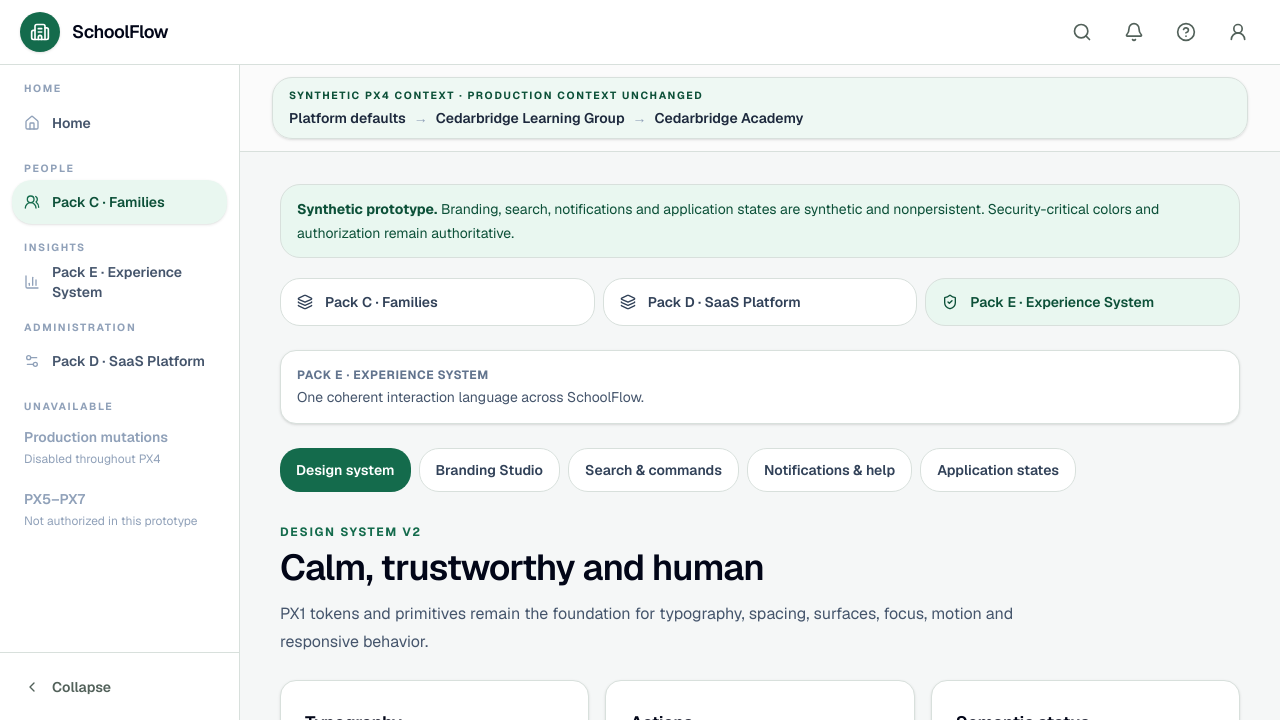
it: PX4 Prototype Packs C–E › keeps notification scope explicit and aligned with Academy context
The width and height of the screenshot is (1280, 720).
Click the button "Notifications & help" at (830, 470), box left=747, top=448, right=912, bottom=492
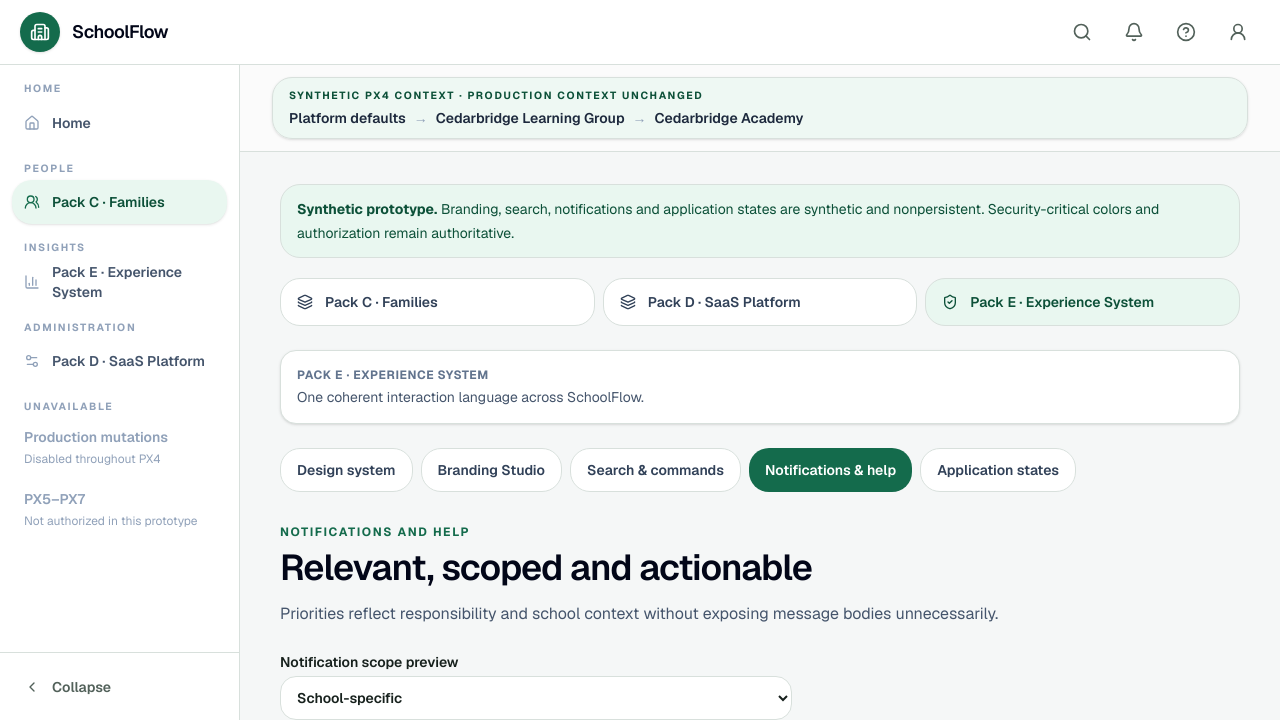
Select "Organization-wide" in the dropdown labelled "Notification scope preview" at (536, 698), box left=280, top=676, right=792, bottom=719
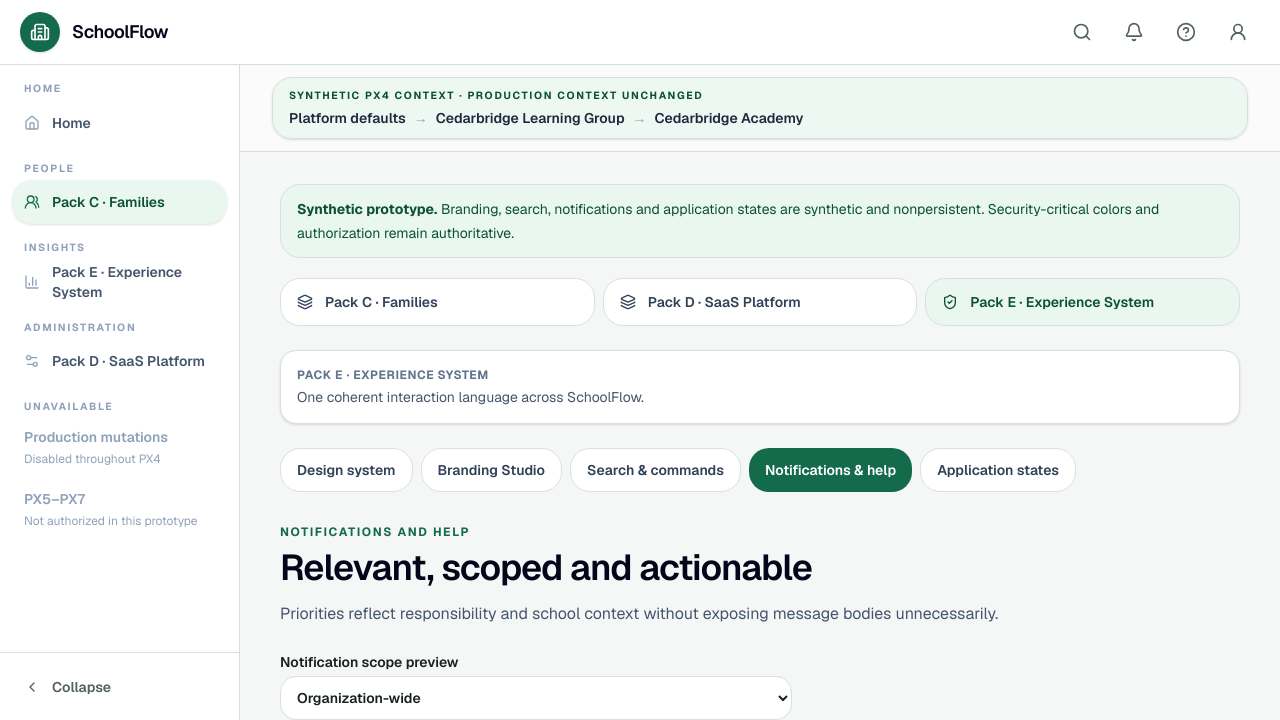
Select "Platform" in the dropdown labelled "Notification scope preview" at (536, 698), box left=280, top=676, right=792, bottom=719
(page scrolled)
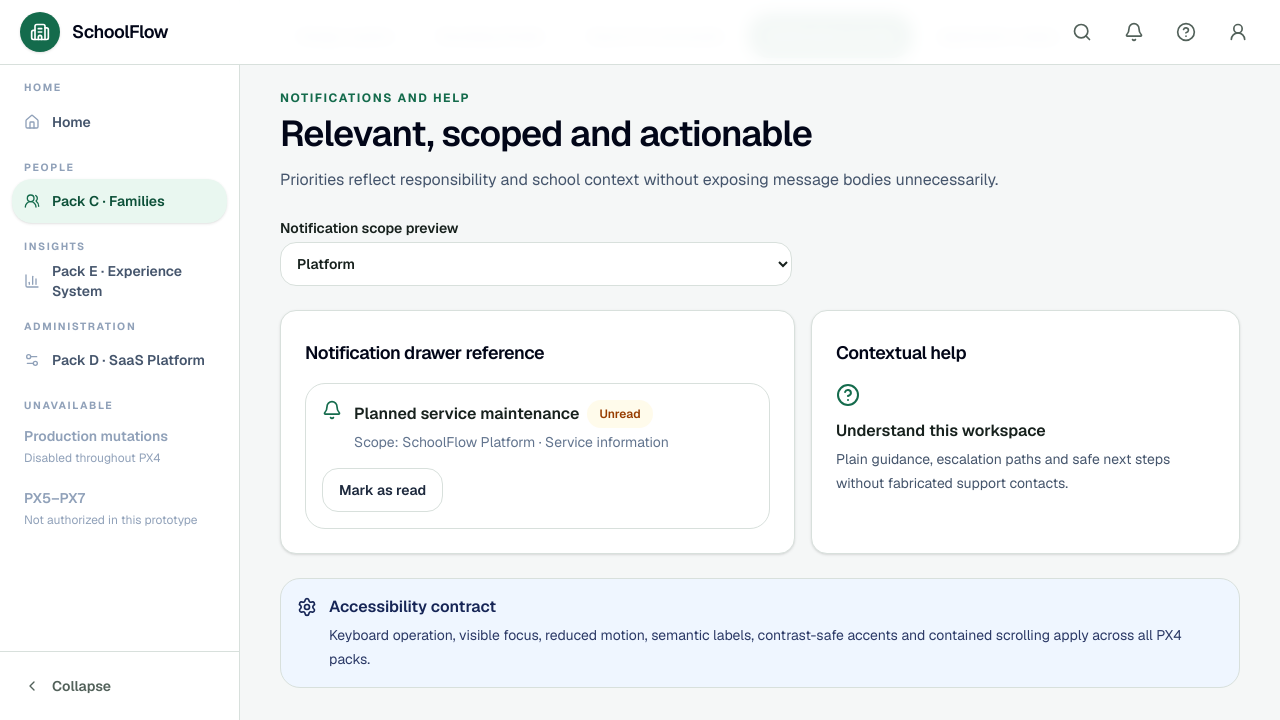
Check: the text "Scope: SchoolFlow Platform · Service information" is shown, box left=354, top=433, right=669, bottom=451
